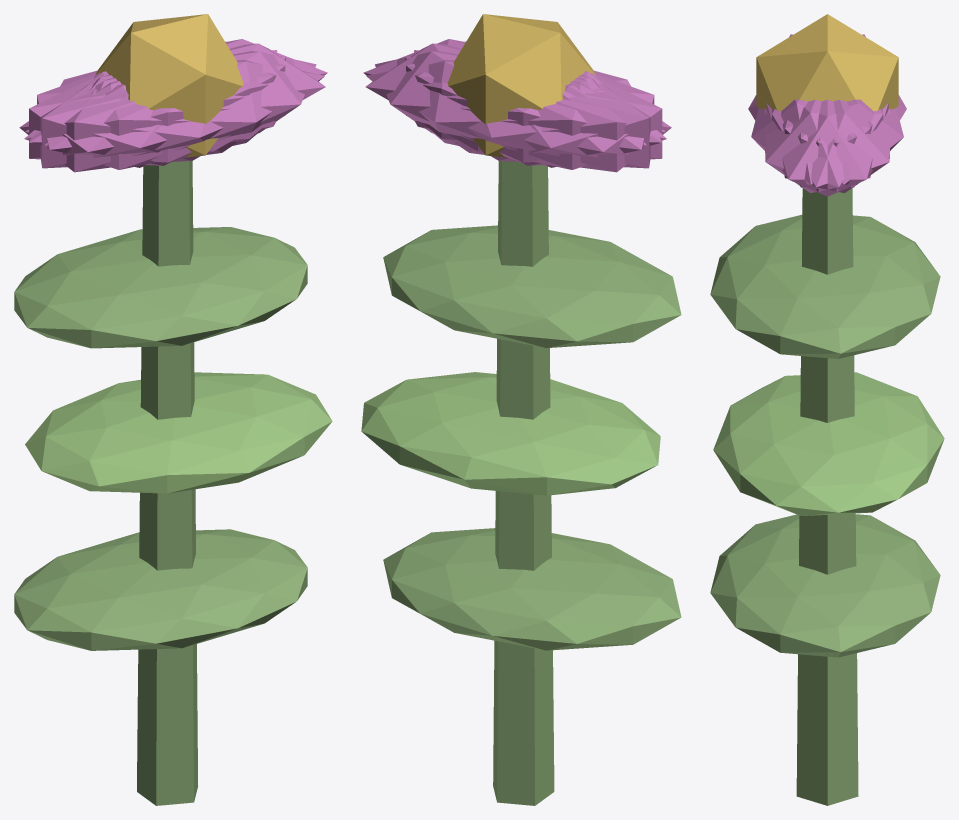
The model's file is strobilanthes-reptans.glb.
The picture shows the model from 3 angles, left to right: view 1: azimuth 30°, elevation 25°; view 2: azimuth 150°, elevation 25°; view 3: azimuth 270°, elevation 25°; orthographic projection.
Parts seen in each view (by area): view 1: leaf2, leaf1, leaf0, stem, center, petal1, petal6, petal2, petal5, petal7, petal0, petal4 (+2 smaller); view 2: leaf1, leaf2, leaf0, stem, center, petal8, petal3, petal7, petal4, petal2, petal0, petal5 (+2 smaller); view 3: leaf1, leaf2, leaf0, stem, center, petal0, petal5, petal4, petal8, petal1.
Boxes of the visible parts, x1,y1,x2,y2 form: leaf2: [14, 227, 307, 348]; leaf1: [25, 372, 332, 493]; leaf0: [14, 529, 307, 650]; stem: [137, 161, 197, 805]; center: [95, 14, 243, 157]; petal1: [24, 59, 324, 169]; petal6: [19, 73, 236, 172]; petal2: [40, 50, 277, 168]; petal5: [44, 51, 316, 162]; petal7: [29, 56, 285, 165]; petal0: [95, 43, 325, 151]; petal4: [25, 39, 327, 142]; leaf1: [361, 372, 660, 495]; leaf2: [383, 225, 681, 348]; leaf0: [383, 528, 681, 650]; stem: [493, 161, 554, 805]; center: [447, 14, 595, 157]; petal8: [366, 59, 666, 169]; petal3: [454, 73, 671, 172]; petal7: [414, 50, 650, 168]; petal4: [375, 51, 646, 162]; petal2: [405, 56, 662, 165]; petal0: [365, 43, 595, 151]; petal5: [363, 39, 665, 142]; leaf1: [713, 372, 944, 515]; leaf2: [710, 214, 940, 358]; leaf0: [710, 514, 940, 657]; stem: [796, 188, 858, 805]; center: [756, 14, 898, 111]; petal0: [766, 99, 888, 196]; petal5: [764, 99, 883, 192]; petal4: [772, 99, 890, 193]; petal8: [782, 99, 903, 184]; petal1: [751, 99, 872, 184].
Size of the model in its own units: 0.149 by 0.3609 by 0.1009.
